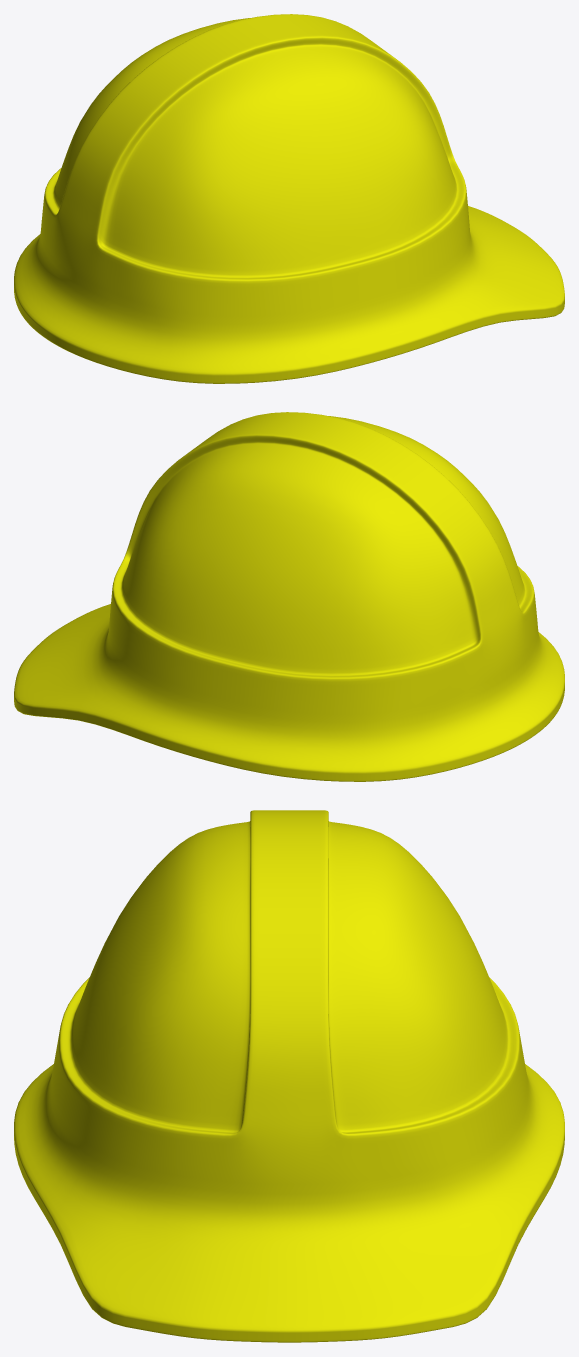
The model's file is hat.fbx.
3 renders of one model, top to bottom at view 1: azimuth 30°, elevation 25°; view 2: azimuth 150°, elevation 25°; view 3: azimuth 270°, elevation 25°, orthographic. The views are drawn at different scales.
Parts seen in each view (by area): view 1: _Forestry_Safety_Hard_Hat_v1:_Forestry_Safety_Hard_Hat01; view 2: _Forestry_Safety_Hard_Hat_v1:_Forestry_Safety_Hard_Hat01; view 3: _Forestry_Safety_Hard_Hat_v1:_Forestry_Safety_Hard_Hat01.
Boxes of the visible parts, x1,y1,x2,y2 form: _Forestry_Safety_Hard_Hat_v1:_Forestry_Safety_Hard_Hat01: (14, 14, 564, 383); _Forestry_Safety_Hard_Hat_v1:_Forestry_Safety_Hard_Hat01: (14, 412, 564, 781); _Forestry_Safety_Hard_Hat_v1:_Forestry_Safety_Hard_Hat01: (14, 810, 564, 1342).
Bounding box in the file's own units: 26.7 × 14.86 × 21.43.
